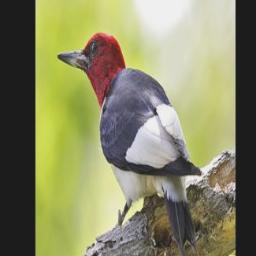Woodpecker: (58, 34, 201, 256)
